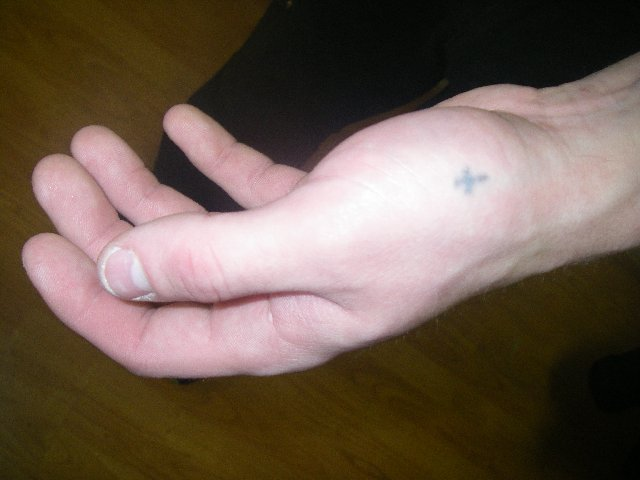tatu9_krest: (442, 166, 499, 195)
